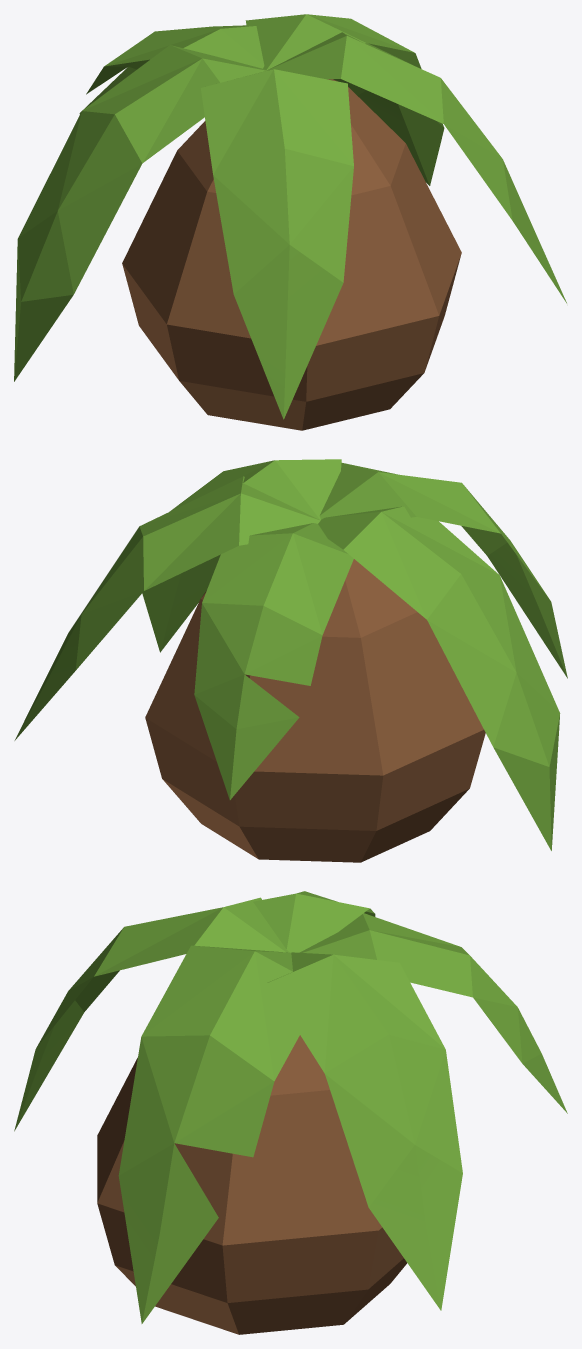
File: nature_palm-small.fbx
The picture shows the model from 3 angles, top to bottom: view 1: azimuth 30°, elevation 25°; view 2: azimuth 150°, elevation 25°; view 3: azimuth 270°, elevation 25°; orthographic projection. The views are drawn at different scales.
Parts seen in each view (by area): view 1: nature_palm_small; view 2: nature_palm_small; view 3: nature_palm_small.
Boxes of the visible parts, left/top/right/bottom form: nature_palm_small: left=14, top=14, right=566, bottom=430; nature_palm_small: left=14, top=459, right=567, bottom=862; nature_palm_small: left=14, top=891, right=567, bottom=1334.
Bounding box in the file's own units: 200 × 136 × 191.
